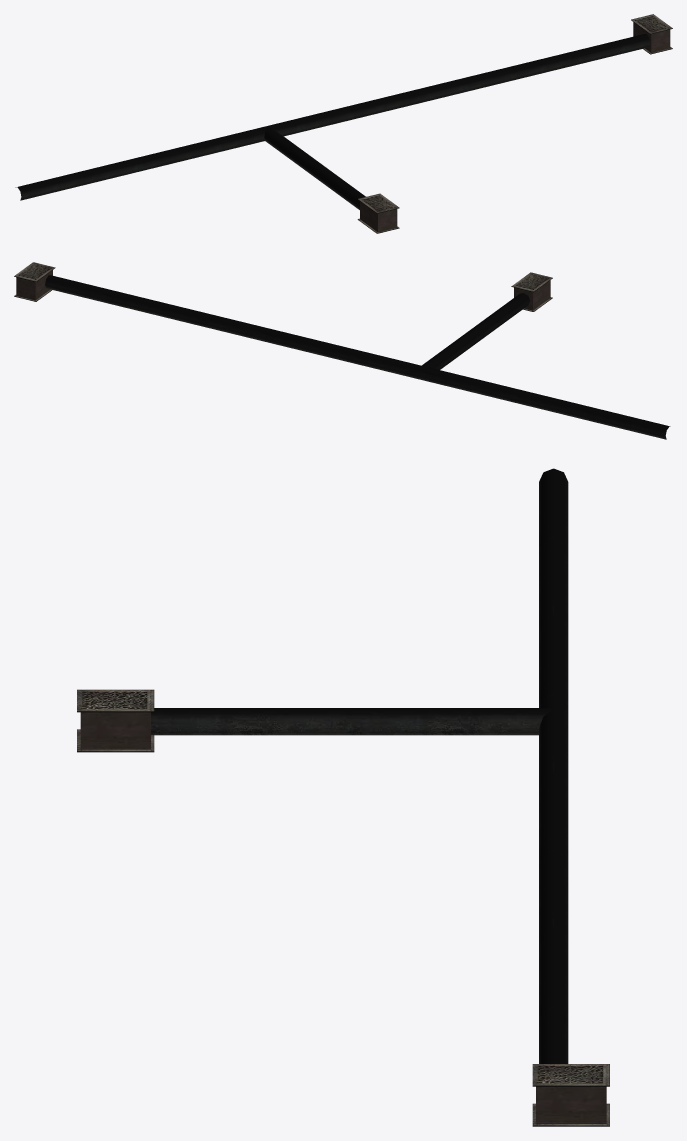
File: furnace01pipes.glb
The picture shows the model from 3 angles, top to bottom: view 1: azimuth 30°, elevation 25°; view 2: azimuth 150°, elevation 25°; view 3: azimuth 270°, elevation 25°; orthographic projection. The views are drawn at different scales.
Visible parts, largest first — view 1: 0_FurnacePipes01, 1_Furnace01; view 2: 0_FurnacePipes01, 1_Furnace01; view 3: 0_FurnacePipes01, 1_Furnace01.
Boxes of the visible parts, bbox=[...] form: 0_FurnacePipes01: bbox=[15, 34, 650, 209]; 1_Furnace01: bbox=[357, 14, 672, 233]; 0_FurnacePipes01: bbox=[45, 275, 670, 439]; 1_Furnace01: bbox=[14, 262, 552, 311]; 0_FurnacePipes01: bbox=[151, 468, 568, 1063]; 1_Furnace01: bbox=[77, 689, 609, 1126].
Bounding box in the file's own units: 11.72 × 0.3557 × 4.22.
2 materials, 2 textured.
